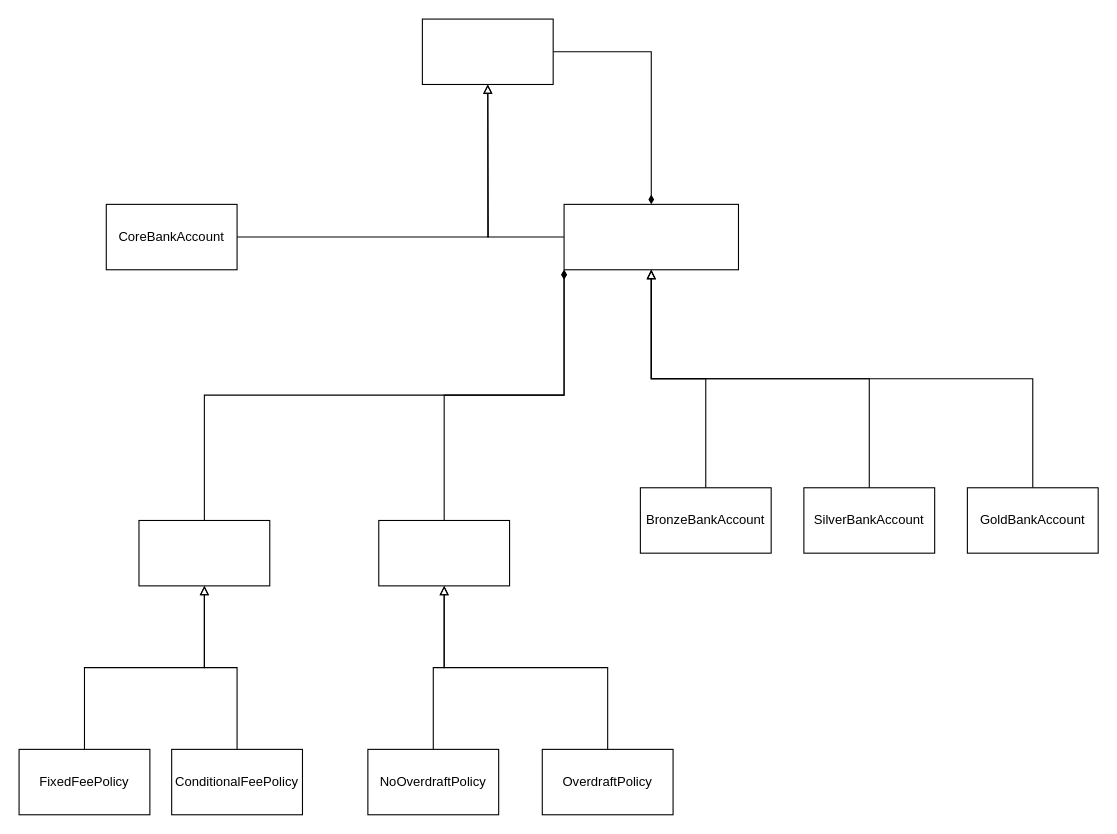
Image size: 1117x834. Some labels were removed from this diagram. Here are the shapes that lost their labels. From the top down, the centre of each, then its label:
the point at 487,51: BankAccount
the point at 650,236: BankAccountDecorator
the point at 204,552: FeePolicy
the point at 444,552: WithdrawPolicy
